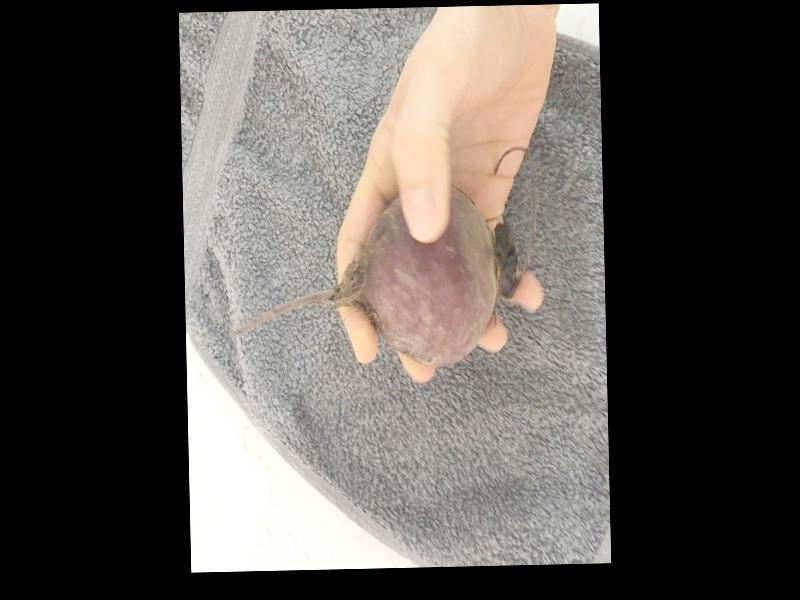Beet: (224, 183, 518, 371)
